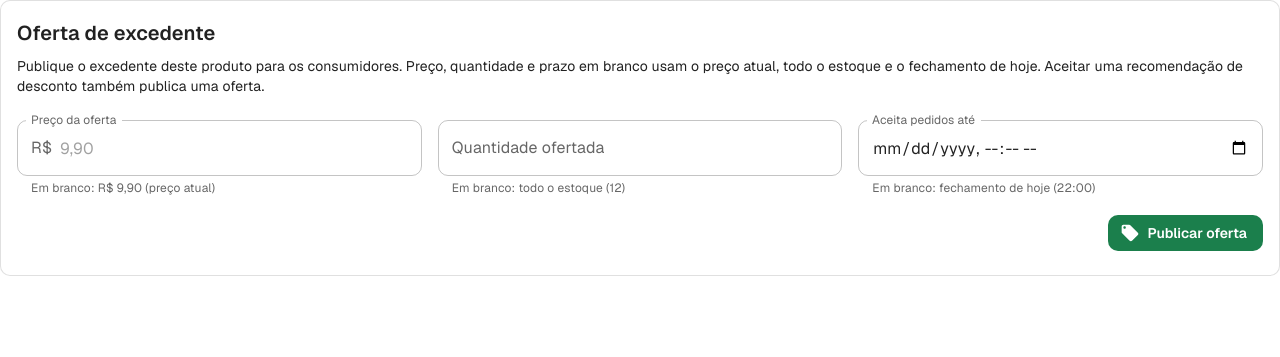
Test: ProductOfferCard › explains the 422 raised when the stock ran out since the page loaded
The width and height of the screenshot is (1280, 357).
Click the button "Publicar oferta": (1185,233) x1=1108 y1=215 x2=1263 y2=251
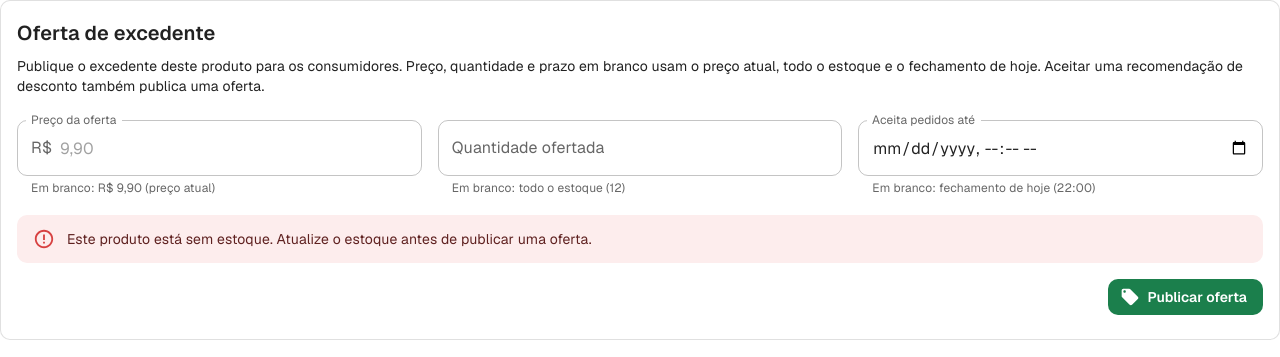
Expected: the text "Atualize o estoque antes de publicar uma oferta" is shown, x1=67 y1=230 x2=592 y2=248
